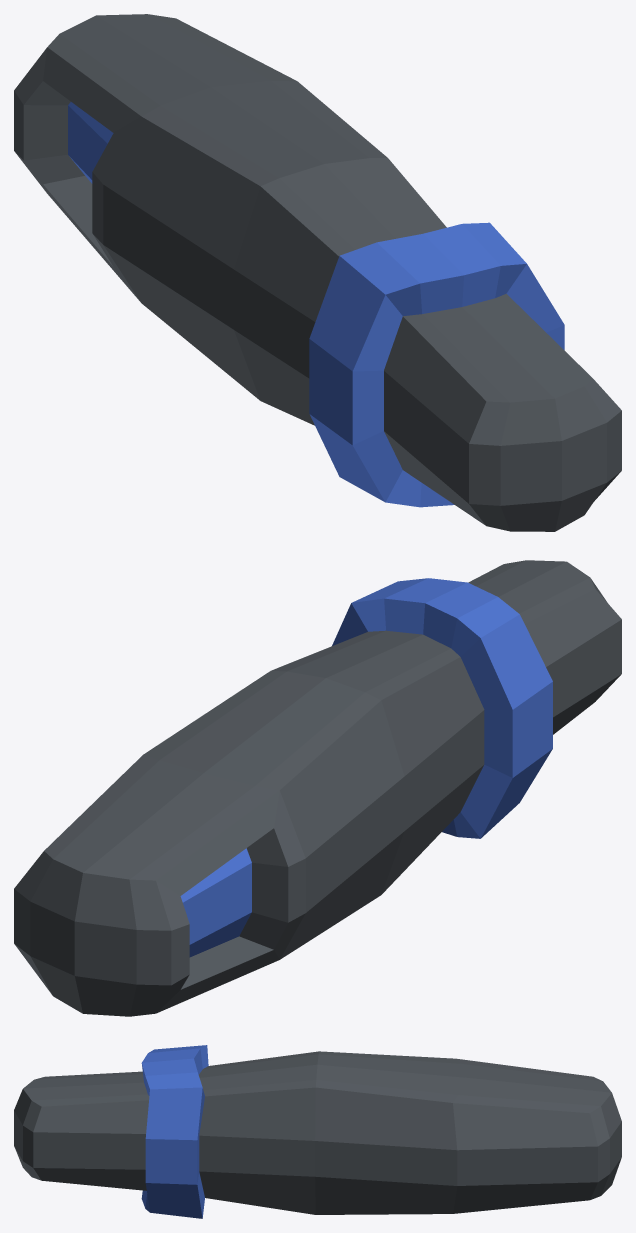
Rendered from Mothership_02_Detail_7_Blue.fbx.
3 views of the same model, one above another, from view 1: azimuth 30°, elevation 25°; view 2: azimuth 150°, elevation 25°; view 3: azimuth 270°, elevation 25° (orthographic). The views are drawn at different scales.
Visible parts, largest first — view 1: Mothership_02_Detail_7_Blue; view 2: Mothership_02_Detail_7_Blue; view 3: Mothership_02_Detail_7_Blue.
Part boxes in pixels (<box>): Mothership_02_Detail_7_Blue: <box>14,14,621,531</box>; Mothership_02_Detail_7_Blue: <box>14,560,621,1016</box>; Mothership_02_Detail_7_Blue: <box>14,1045,621,1218</box>.
Bounding box in the file's own units: 198 × 202 × 760.
1 material, 1 textured.
